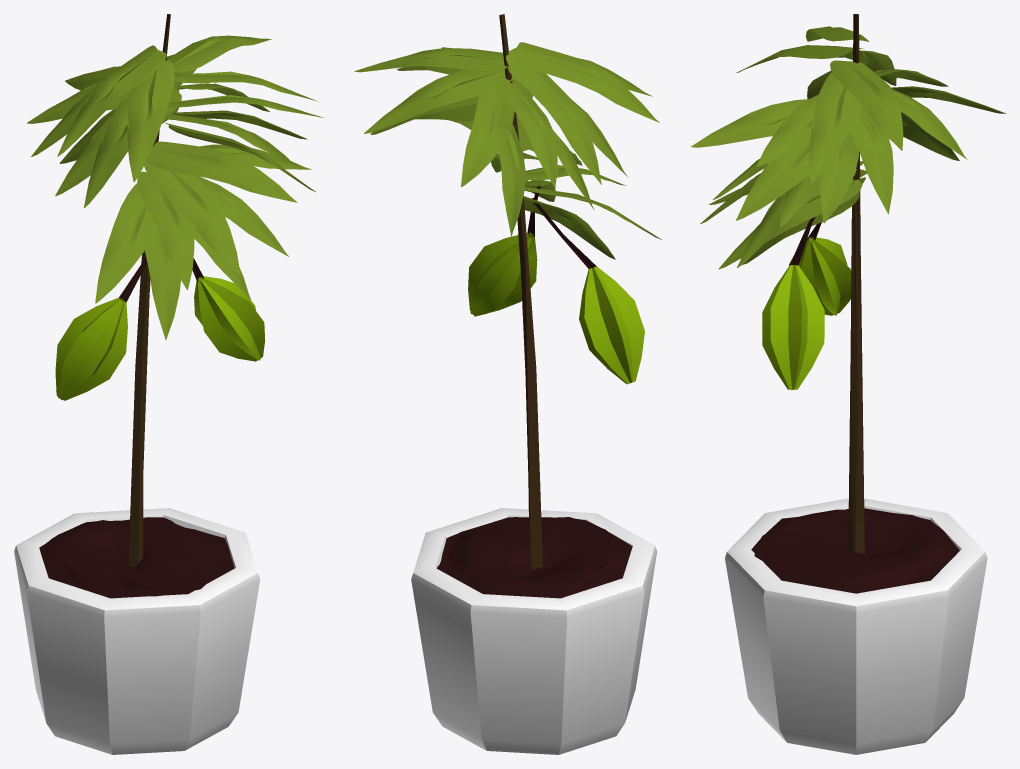
Rendered from arjuna.glb.
3 views of the same model, side by side, from view 1: azimuth 30°, elevation 25°; view 2: azimuth 150°, elevation 25°; view 3: azimuth 270°, elevation 25° (orthographic). The views are drawn at different scales.
Parts seen in each view (by area): view 1: arjuna; view 2: arjuna; view 3: arjuna.
Part boxes in pixels (x1,y1,x2,y2): arjuna: [14, 14, 323, 754]; arjuna: [354, 14, 662, 754]; arjuna: [691, 14, 1005, 754].
Size of the model in its own units: 1.7 by 4.22 by 1.67.
